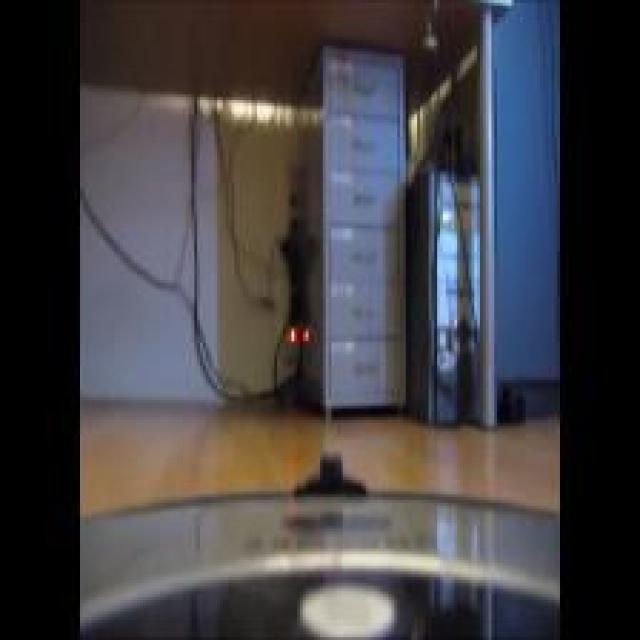other: (191, 70, 324, 141), (271, 306, 324, 356)
